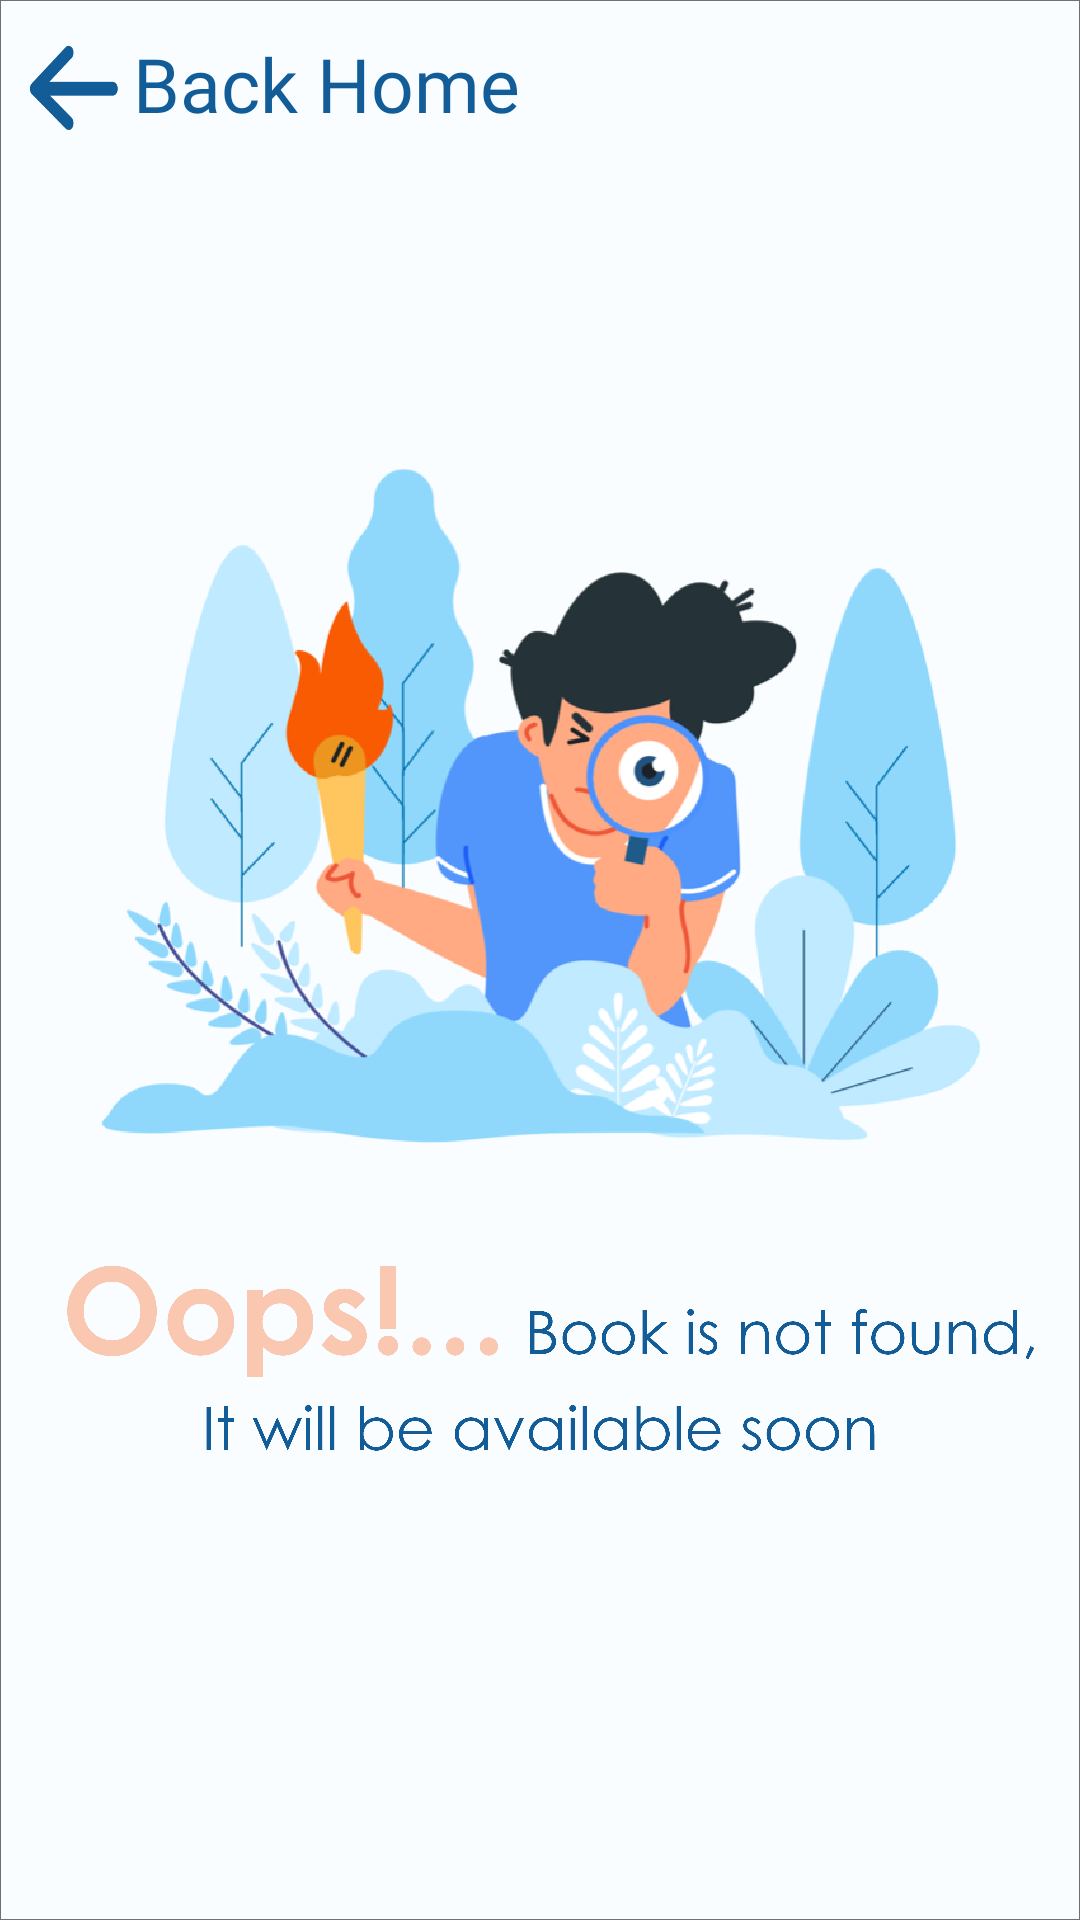

Icons on this 1080px×1920px Android screen, each with the point to tap as point (x, y):
arrow: point (74, 87)
